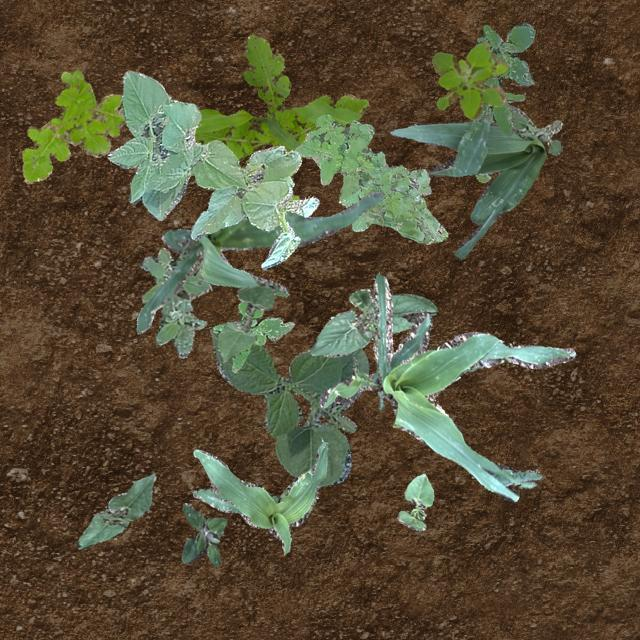crop: (318, 272, 574, 500), (106, 70, 318, 268), (136, 190, 384, 332), (208, 328, 368, 486), (390, 120, 544, 258), (192, 441, 326, 554), (308, 288, 436, 357), (76, 472, 156, 548), (216, 283, 274, 362), (397, 472, 432, 530)
weed: (194, 34, 368, 200), (294, 114, 446, 244), (20, 68, 124, 182), (140, 246, 210, 358), (474, 20, 534, 136), (472, 105, 562, 182), (430, 40, 508, 119), (212, 300, 294, 372), (182, 502, 226, 564)
